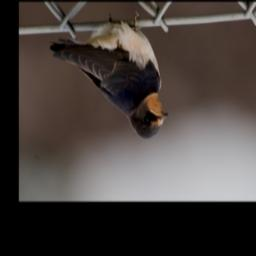Swallow: (49, 11, 169, 141)
